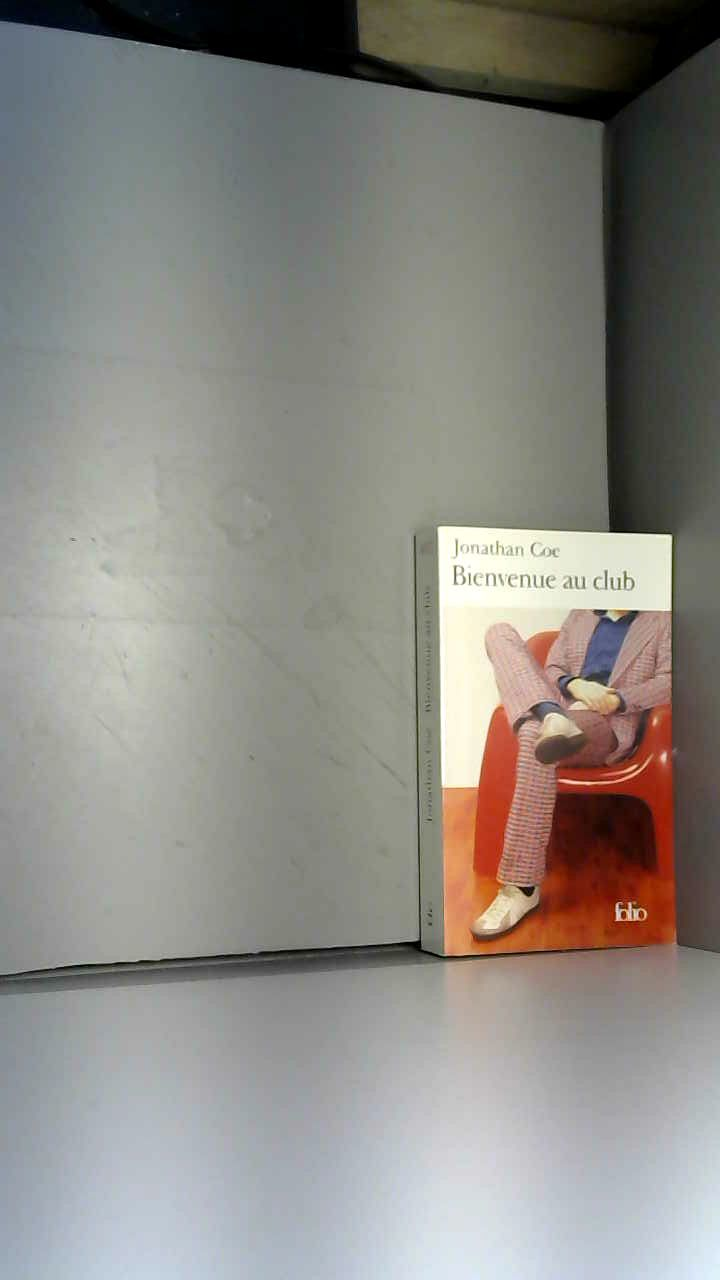book: (371, 490, 718, 985)
